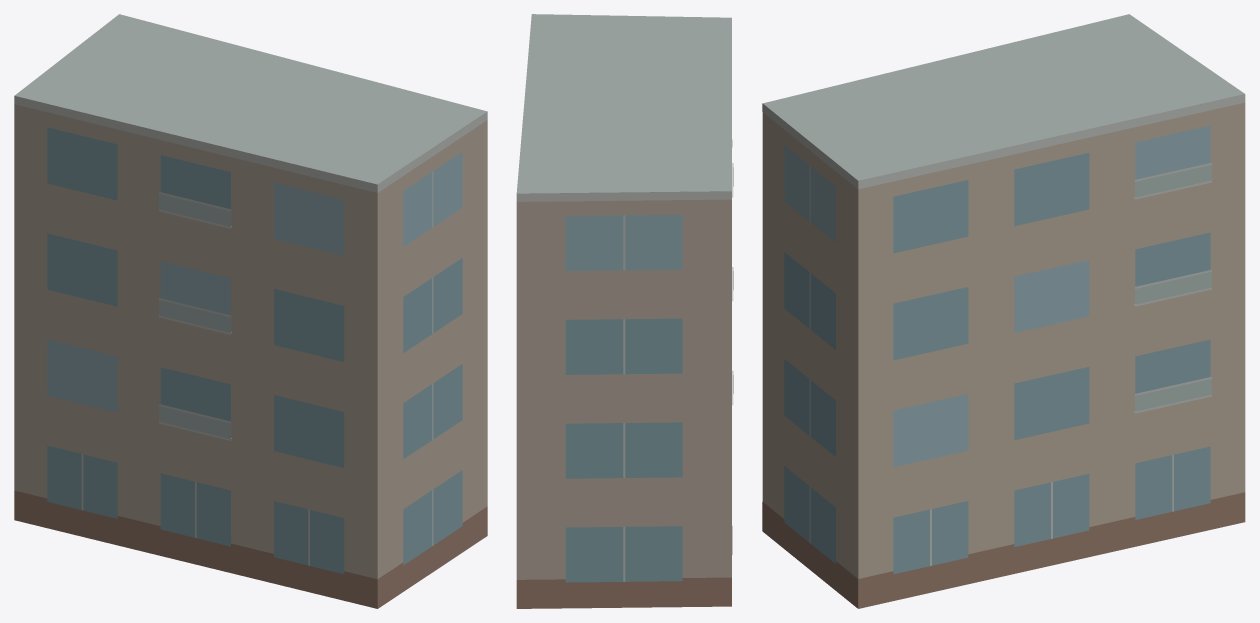
Rendered from residential-33c525b4-c12e-40f2-a071-77acfbee333d.glb.
3 renders of one model, left to right at view 1: azimuth 30°, elevation 25°; view 2: azimuth 150°, elevation 25°; view 3: azimuth 270°, elevation 25°, orthographic. The views are drawn at different scales.
Visible parts, largest first — view 1: residential-33c525b4-c12e-40f2-a071-77acfbee333d.tmp; view 2: residential-33c525b4-c12e-40f2-a071-77acfbee333d.tmp; view 3: residential-33c525b4-c12e-40f2-a071-77acfbee333d.tmp.
Part boxes in pixels (x1,y1,x2,y2): residential-33c525b4-c12e-40f2-a071-77acfbee333d.tmp: [14, 14, 487, 608]; residential-33c525b4-c12e-40f2-a071-77acfbee333d.tmp: [516, 14, 733, 608]; residential-33c525b4-c12e-40f2-a071-77acfbee333d.tmp: [762, 14, 1245, 608].
Size of the model in its own units: 10.21 by 12.2 by 12.48.
